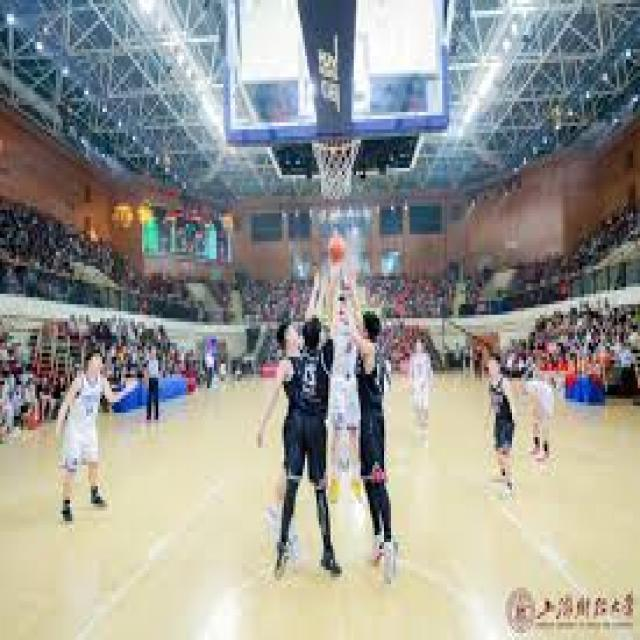rim: (328, 235, 347, 262)
